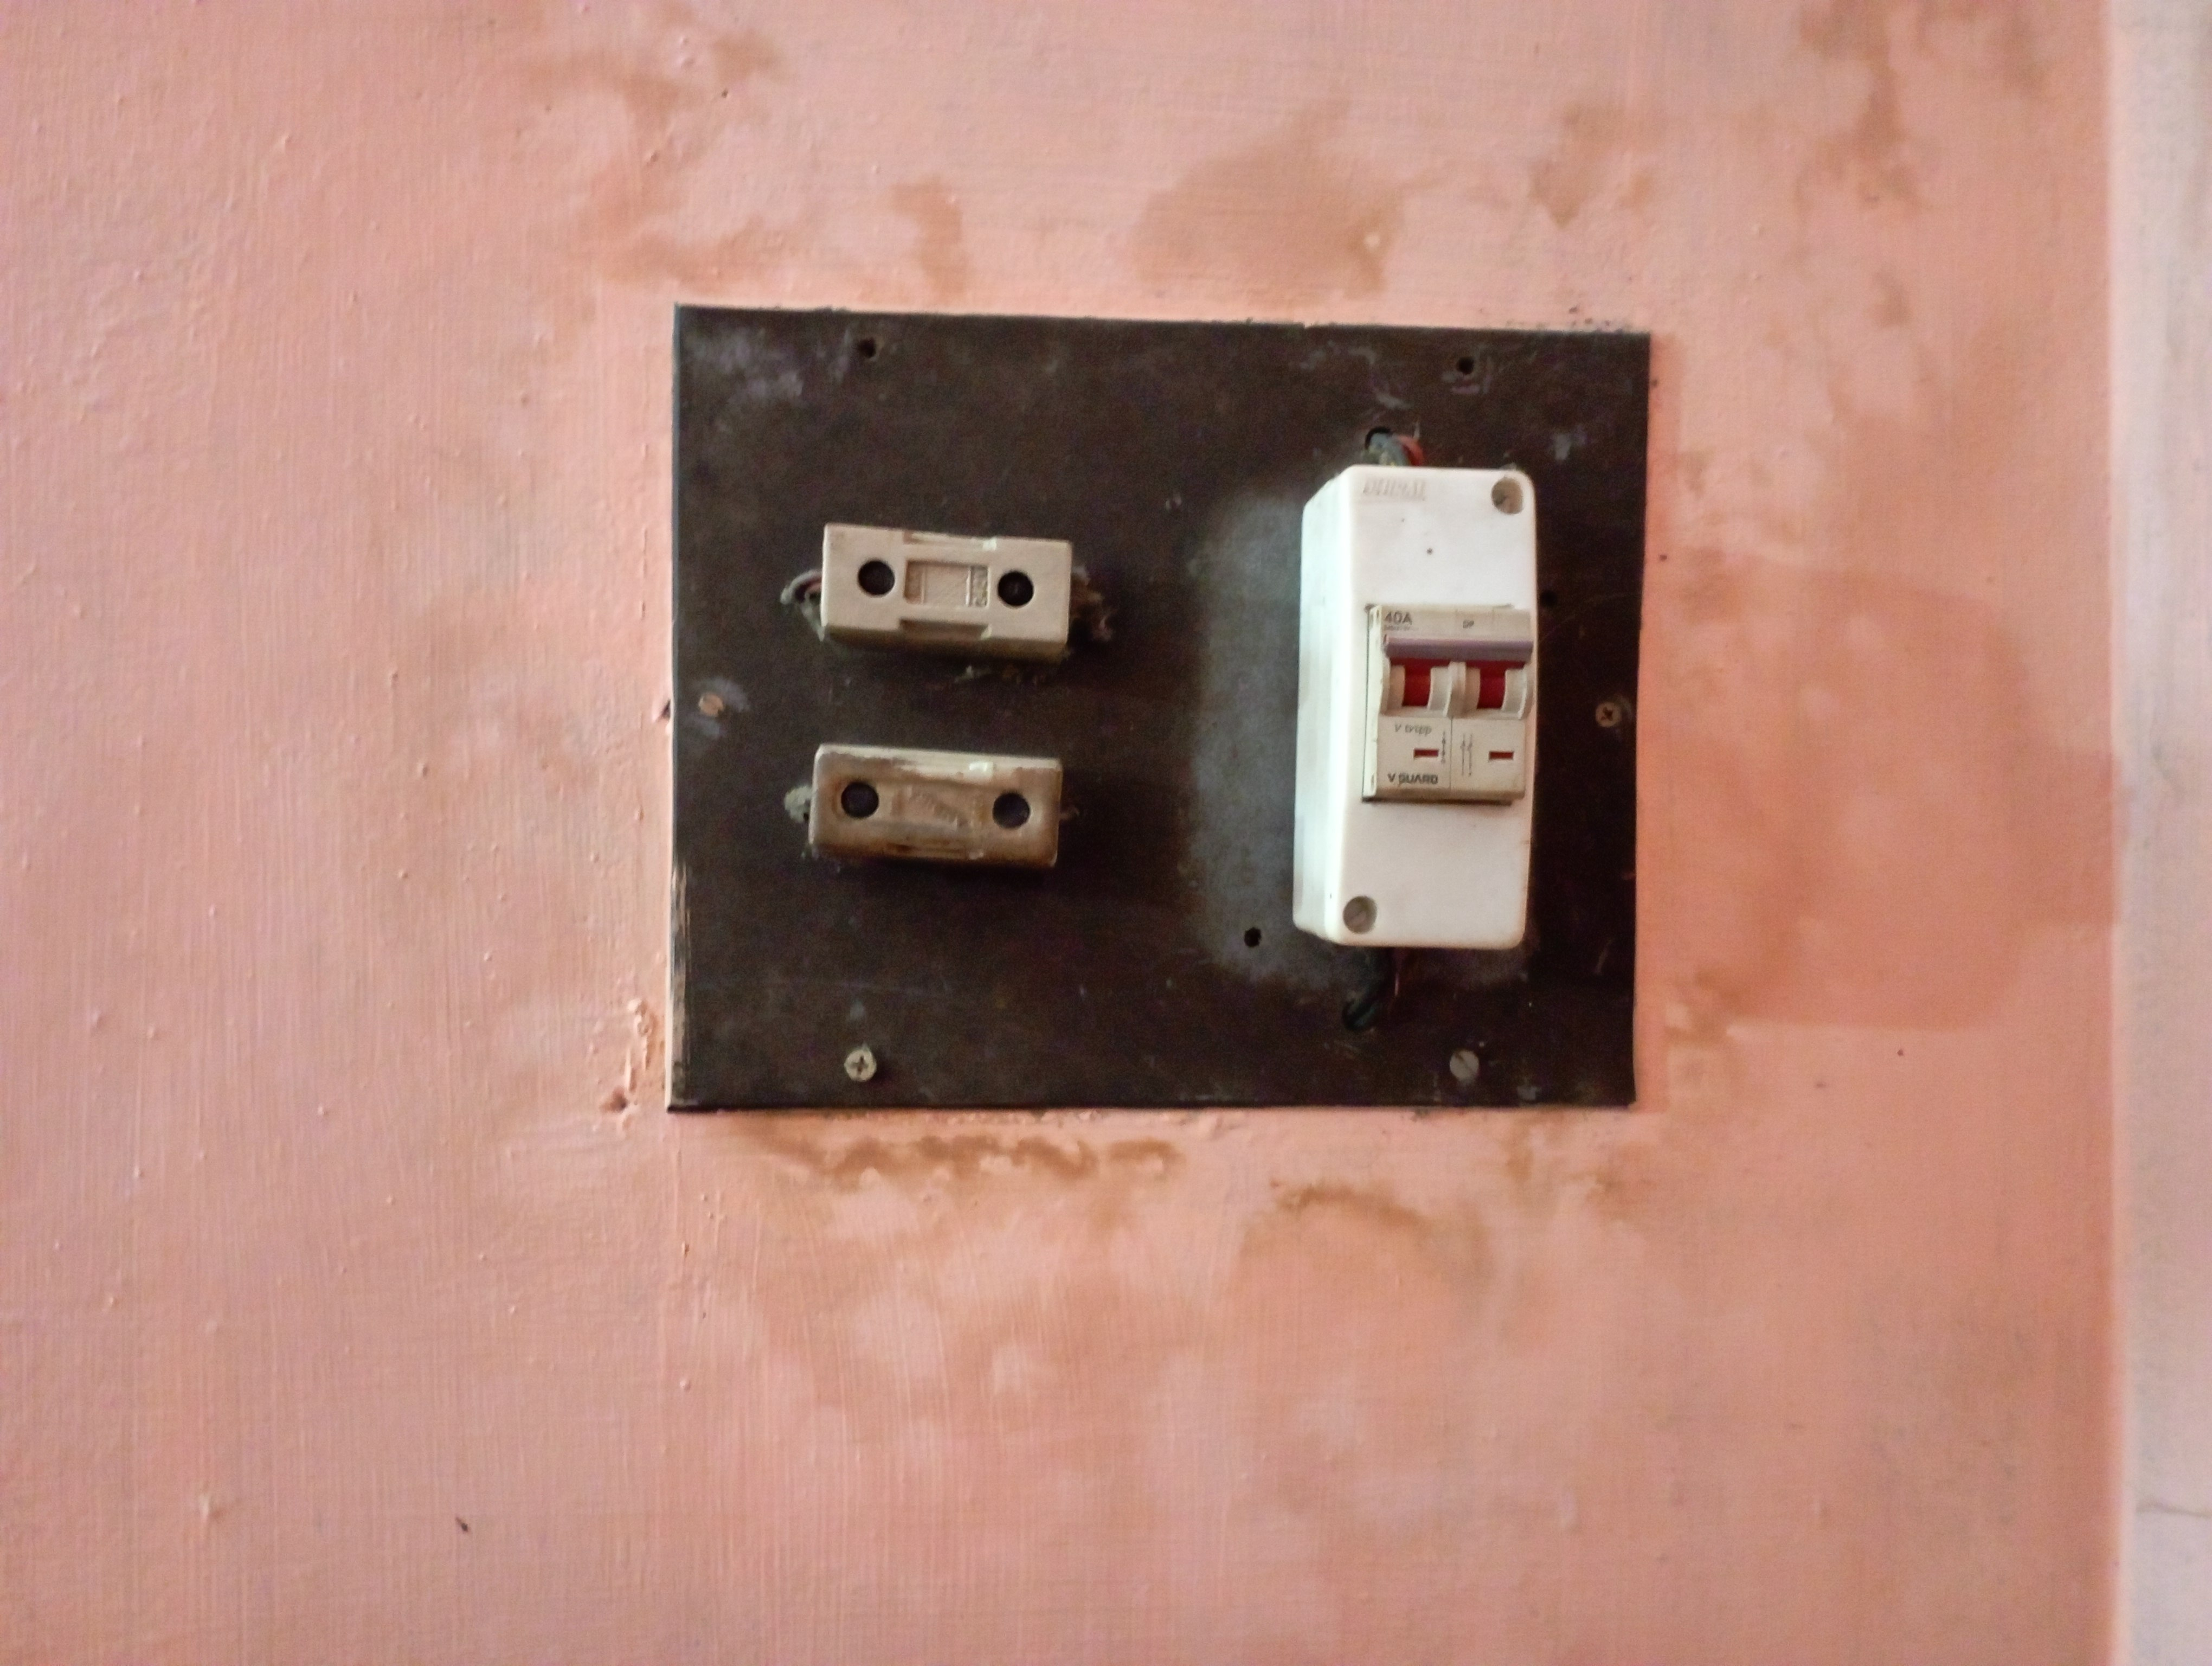ciruit_breaker: (1278, 452, 1572, 987)
fuse: (799, 507, 1102, 649), (785, 731, 1075, 878)
